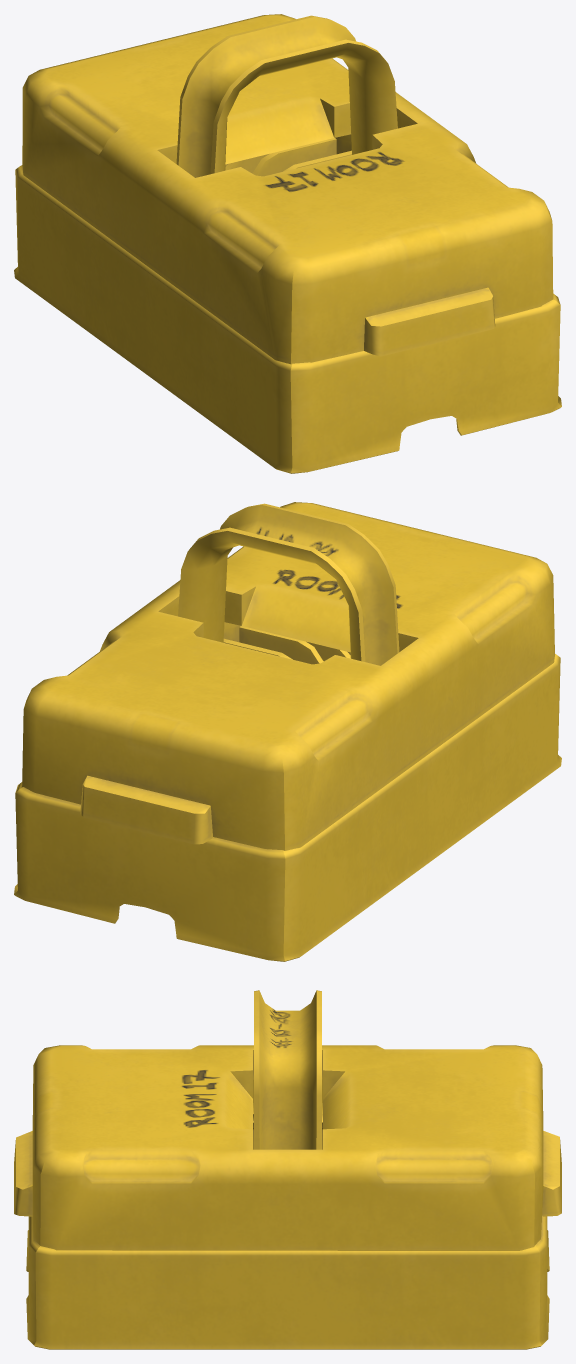
File: SM_Calculator_And_Case_01e.fbx
3 renders of one model, top to bottom at view 1: azimuth 30°, elevation 25°; view 2: azimuth 150°, elevation 25°; view 3: azimuth 270°, elevation 25°, orthographic. The views are drawn at different scales.
Parts seen in each view (by area): view 1: SM_Calculator_And_Case_01e_LOD0; view 2: SM_Calculator_And_Case_01e_LOD0; view 3: SM_Calculator_And_Case_01e_LOD0.
Part boxes in pixels (x1=…): SM_Calculator_And_Case_01e_LOD0: x1=14, y1=14, x2=561, y2=473; SM_Calculator_And_Case_01e_LOD0: x1=14, y1=502, x2=561, y2=961; SM_Calculator_And_Case_01e_LOD0: x1=14, y1=990, x2=561, y2=1349.
Size of the model in its own units: 17.52 by 31.69 by 17.66.
1 material, 1 textured.
